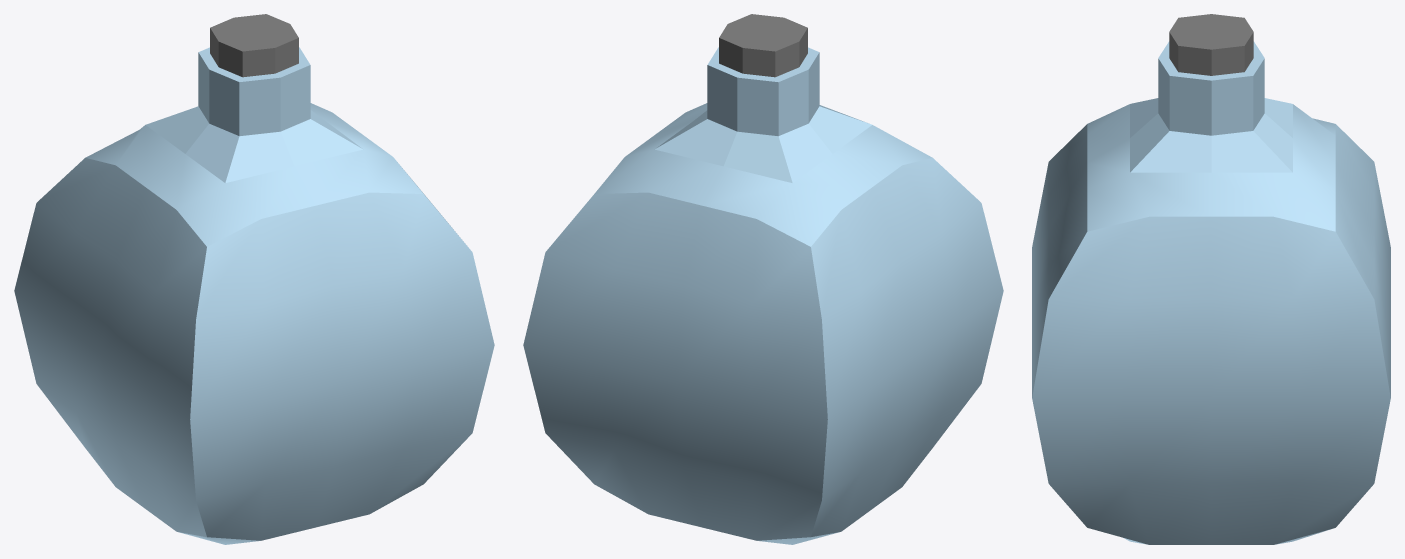
File: BotellaDef.FBX
3 renders of one model, left to right at view 1: azimuth 30°, elevation 25°; view 2: azimuth 150°, elevation 25°; view 3: azimuth 270°, elevation 25°, orthographic.
Parts seen in each view (by area): view 1: Botella, Corcho; view 2: Botella, Corcho; view 3: Botella, Corcho.
Boxes of the visible parts, <box> form: Botella: <box>14,47,494,544</box>; Corcho: <box>210,14,298,77</box>; Botella: <box>523,47,1003,544</box>; Corcho: <box>719,14,807,77</box>; Botella: <box>1032,41,1390,544</box>; Corcho: <box>1169,14,1253,75</box>.
Size of the model in its own units: 17.35 by 25.37 by 17.35.
